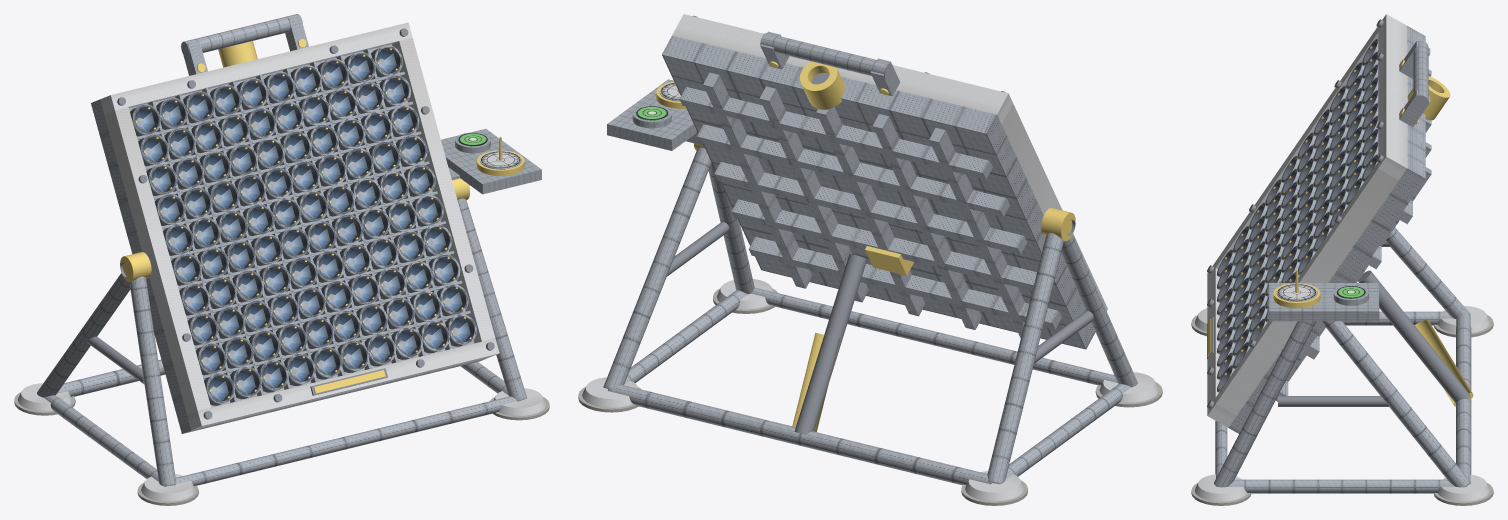
Rendered from apollo_lrrr.glb.
3 views of the same model, side by side, from view 1: azimuth 30°, elevation 25°; view 2: azimuth 150°, elevation 25°; view 3: azimuth 270°, elevation 25° (orthographic). The views are drawn at different scales.
Visible parts, largest first — view 1: OpticalArrayFrame, RetroreflectorCavities_100x, CornerCubePrisms_100x, DeploymentStand, RetainerRingsAndTabs_300x, SunCompassAndLevel; view 2: OpticalArrayFrame, DeploymentStand, SunCompassAndLevel; view 3: OpticalArrayFrame, DeploymentStand, RetroreflectorCavities_100x, RetainerRingsAndTabs_300x, SunCompassAndLevel.
Part boxes in pixels (<box>): OpticalArrayFrame: <box>91,14,499,433</box>; RetroreflectorCavities_100x: <box>130,46,475,405</box>; CornerCubePrisms_100x: <box>135,49,470,400</box>; DeploymentStand: <box>14,178,549,505</box>; RetainerRingsAndTabs_300x: <box>131,45,476,403</box>; SunCompassAndLevel: <box>441,129,541,194</box>; OpticalArrayFrame: <box>662,14,1107,349</box>; DeploymentStand: <box>578,143,1162,505</box>; SunCompassAndLevel: <box>607,79,703,150</box>; OpticalArrayFrame: <box>1207,14,1450,433</box>; DeploymentStand: <box>1191,227,1493,505</box>; RetroreflectorCavities_100x: <box>1217,39,1378,391</box>; RetainerRingsAndTabs_300x: <box>1217,39,1378,392</box>; SunCompassAndLevel: <box>1269,269,1379,321</box>.
Size of the model in its own units: 0.656 by 0.5137 by 0.412.
9 materials, 5 textured.
